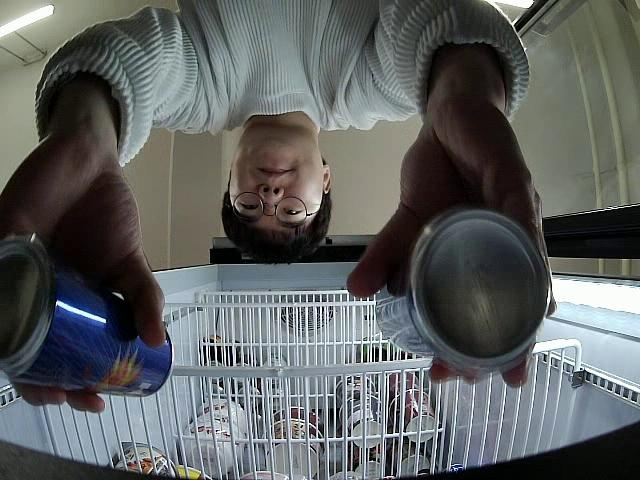00_hand: (348, 101, 556, 389), (0, 137, 167, 413)
16_hot6: (375, 205, 551, 371), (0, 237, 175, 400)
